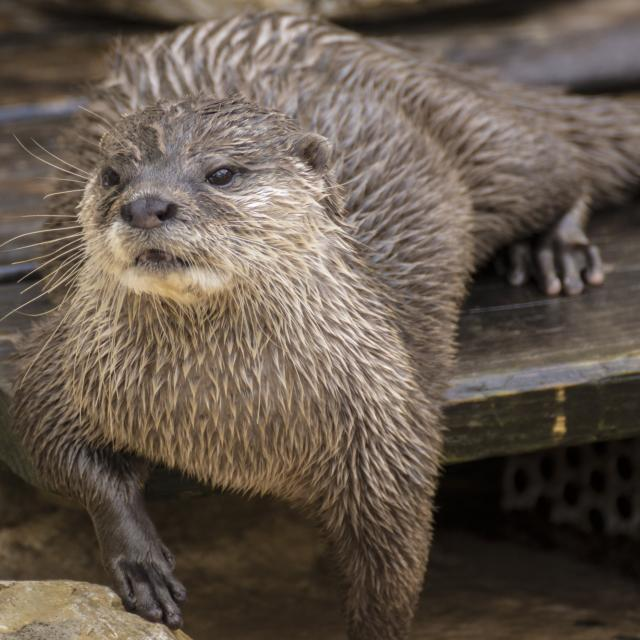otter: (21, 22, 437, 498)
